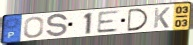1: (82, 11, 94, 35)
D: (127, 8, 151, 32)
E: (96, 9, 122, 34)
K: (152, 7, 171, 29)
O: (23, 16, 46, 39)
S: (45, 12, 70, 39)
